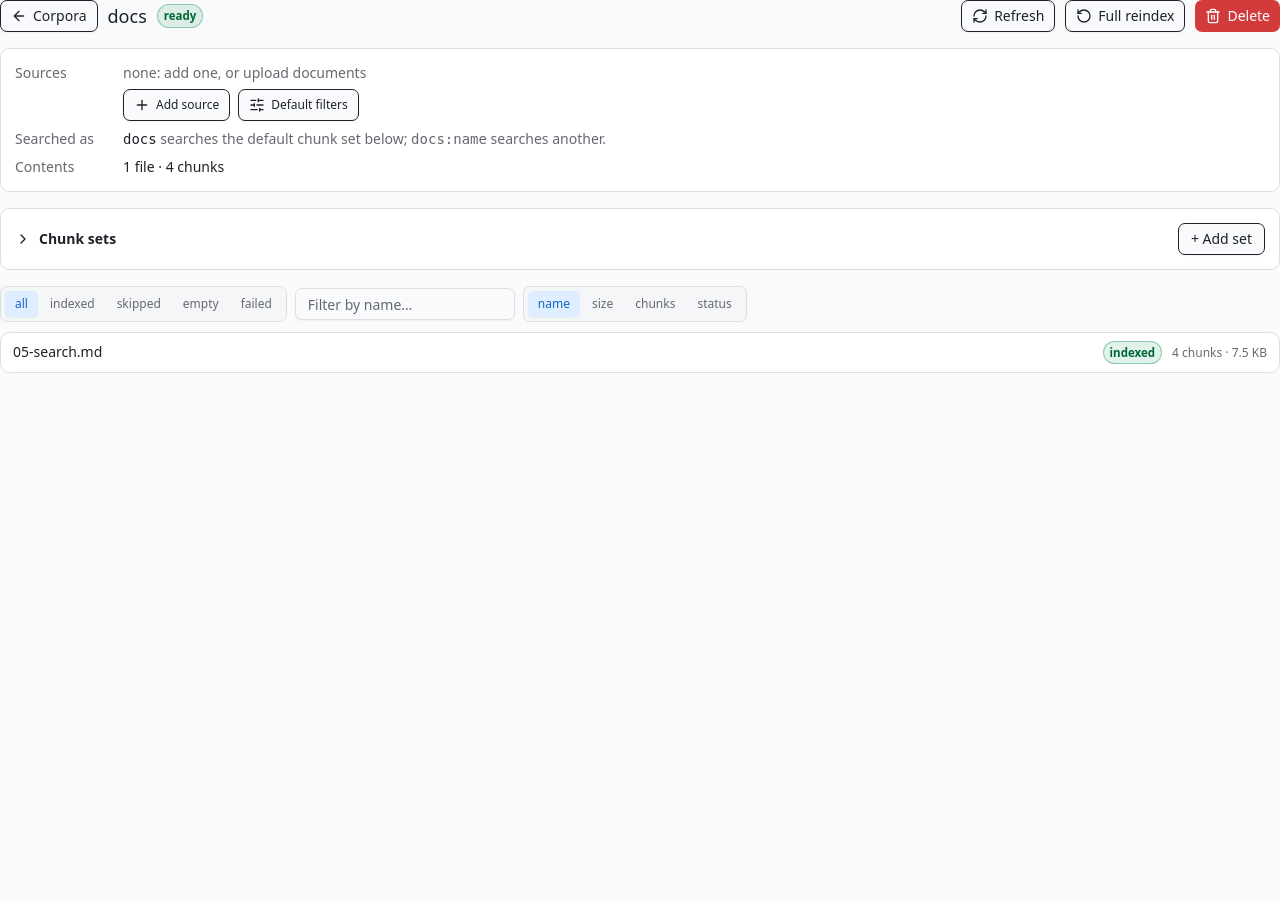
Scenario: opening a file from the list › says which chunk set it is reading
This screenshot has width=1280, height=900.
Click the button "05-search.md": (58, 352) [13,342,1093,362]
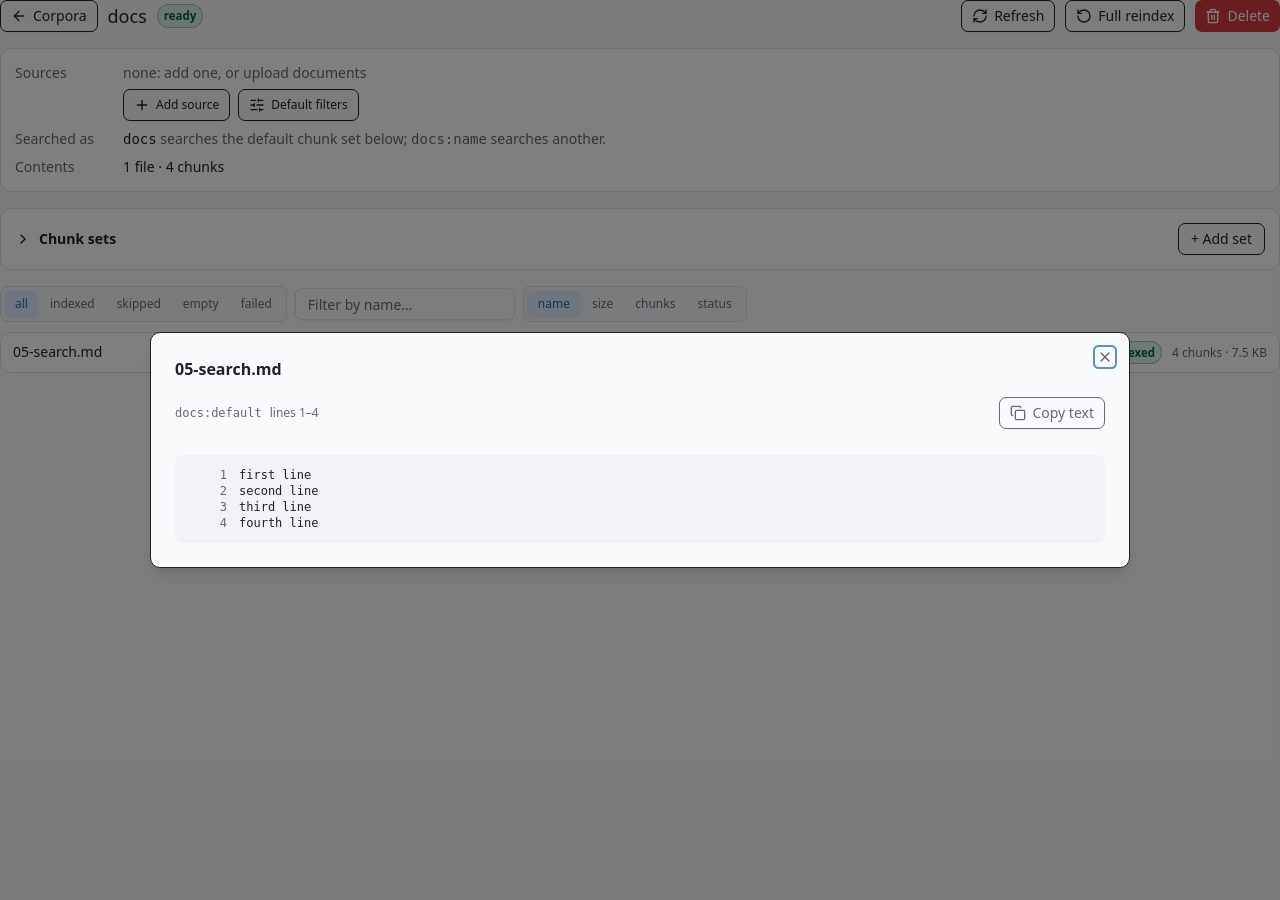
Expected: the text "docs:default" is shown, [175,405,262,421]
